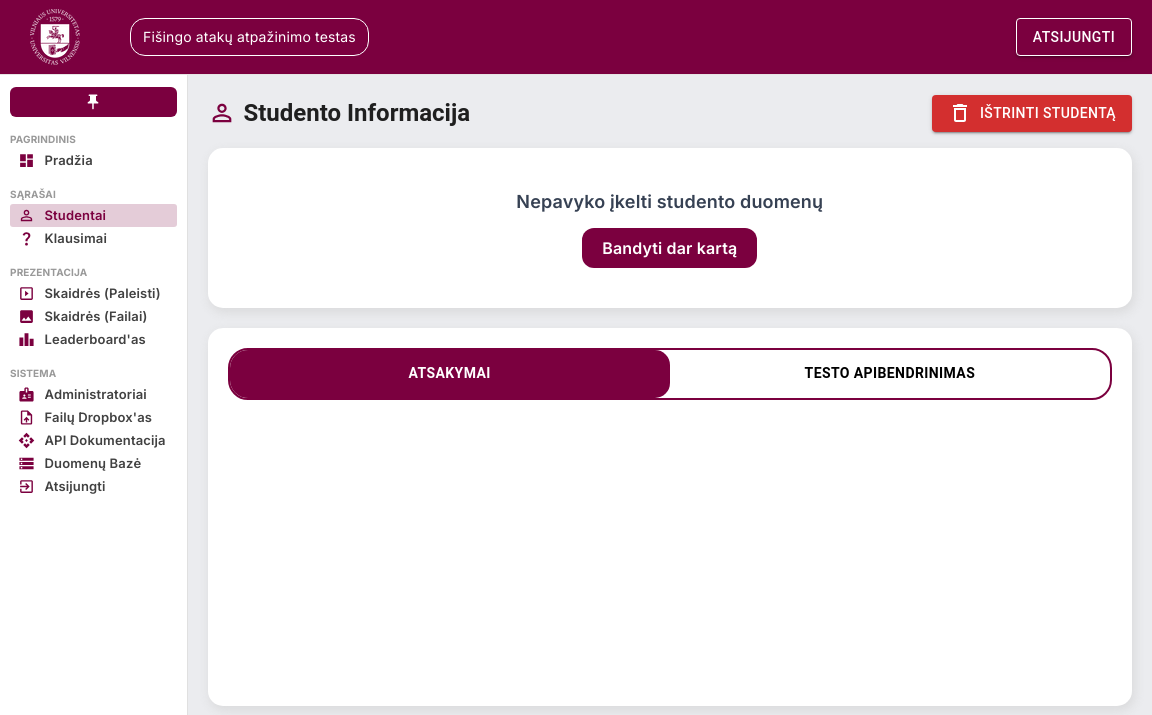
StudentInformation — loading the page › 'Bandyti dar kartą' asks for the record again — and shows it once it arrives
Click the button "Bandyti dar kartą" at {"x": 670, "y": 248}, box [582,228,757,268]
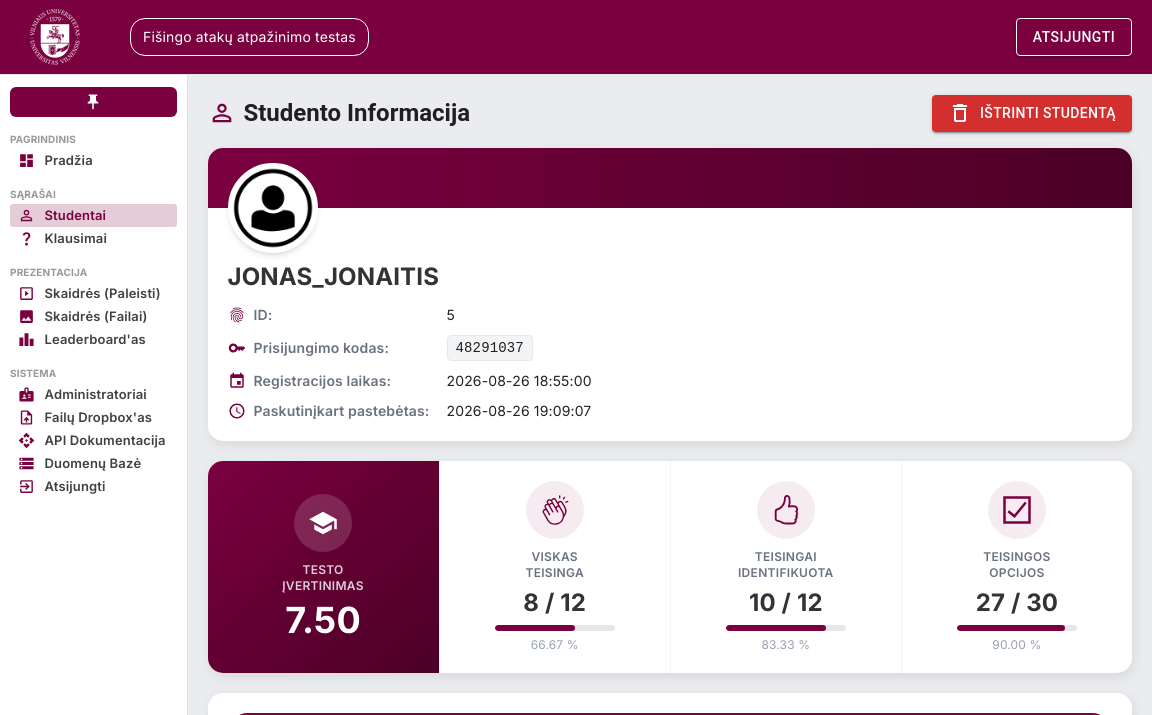
Check: the heading "JONAS_JONAITIS" is shown, box [228,262,439,290]
Check: the text "7.50" is shown, box [285,600,361,640]
Check: the text "Nepavyko įkelti studento duomenų" is gone
